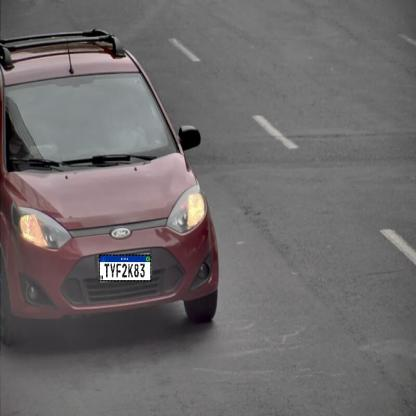PlacaM: (99, 254, 151, 282)
